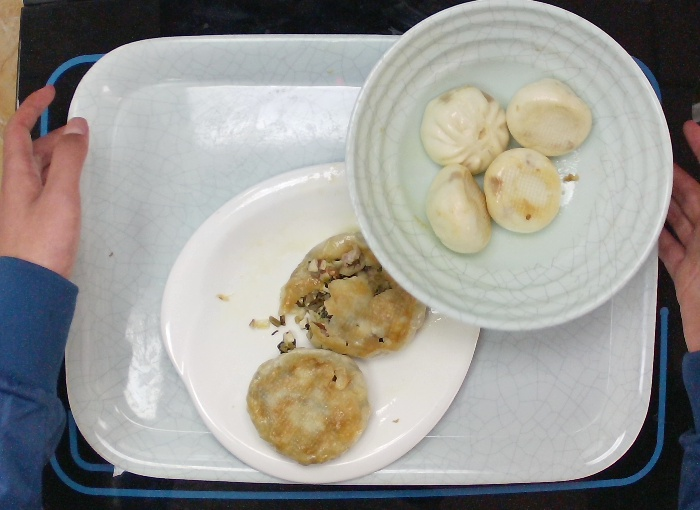JYsf-Da_Tang_Wan: (344, 1, 680, 335)
JYsf-Mian_Pan: (154, 156, 491, 485)
